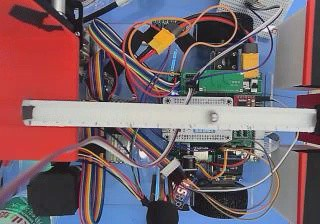ironball: (208, 111, 218, 122)
